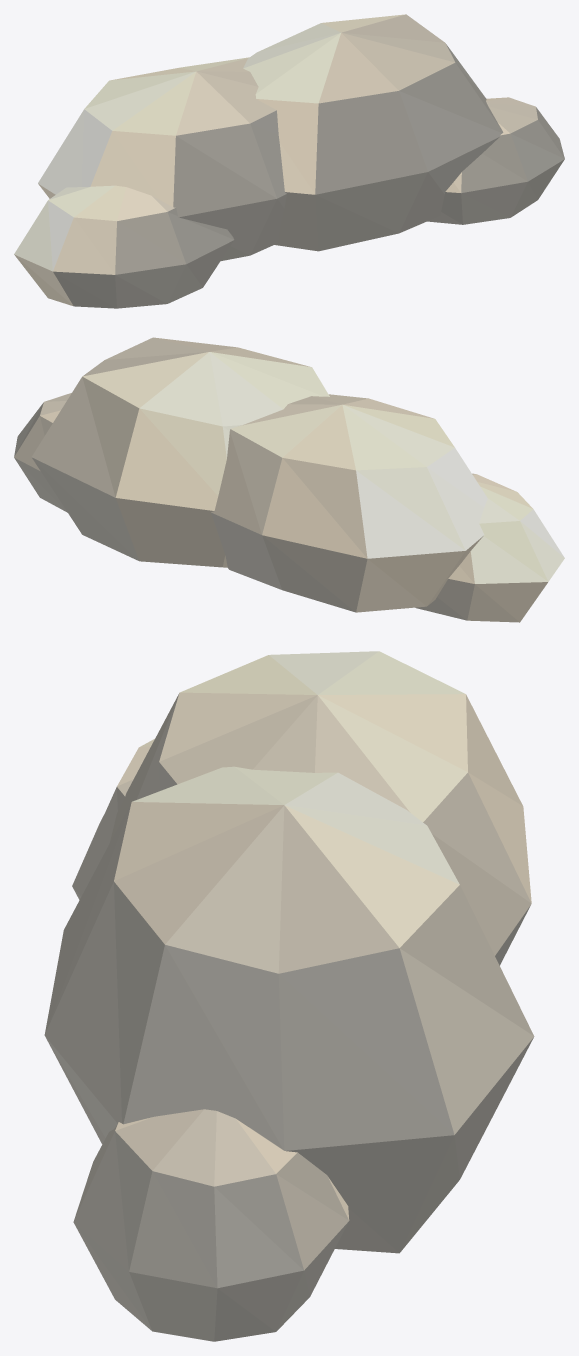
Rendered from cloud_2.glb.
3 renders of one model, top to bottom at view 1: azimuth 30°, elevation 25°; view 2: azimuth 150°, elevation 25°; view 3: azimuth 270°, elevation 25°, orthographic. The views are drawn at different scales.
Parts seen in each view (by area): view 1: Wolke 2; view 2: Wolke 2; view 3: Wolke 2.
Boxes of the visible parts, x1,y1,x2,y2 form: Wolke 2: (14,14,564,308); Wolke 2: (14,337,564,622); Wolke 2: (44,651,534,1341).
Bounding box in the file's own units: 2.56 × 0.96 × 1.03.
